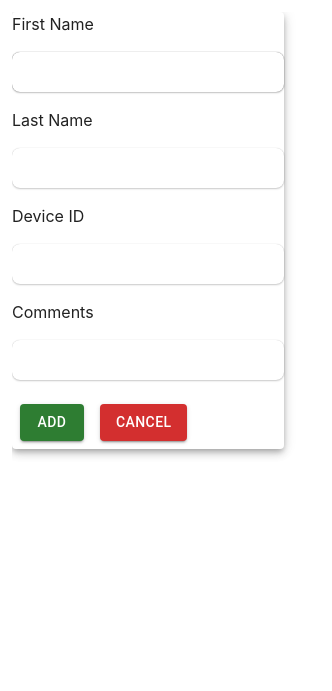
Test: Add component › should return validation error when first name is above character limit
Type "thisNameIsAboveTheMinimumCharacterLimit" into the field labelled "First Name" at (148, 72), box top-left (12, 52), bottom-right (284, 92)
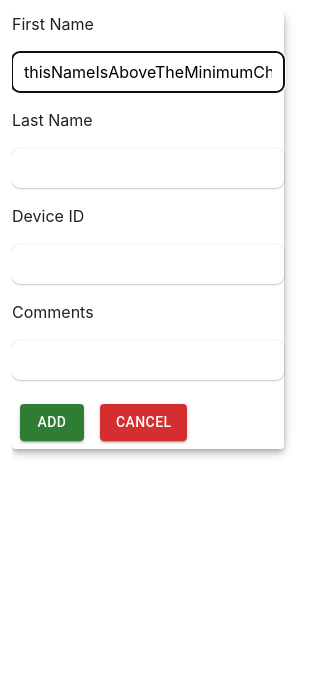
Click the button labelled "Add" at (52, 422), box top-left (20, 404), bottom-right (84, 440)
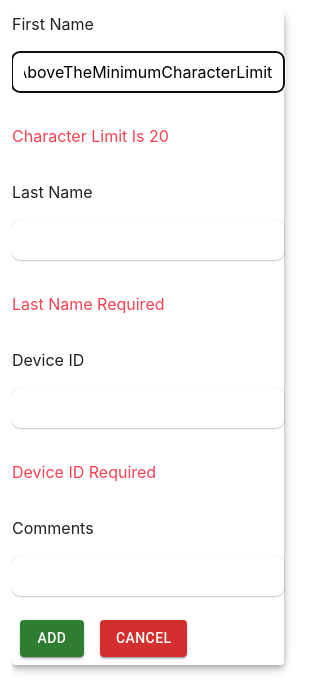
Expected: the text "Character Limit Is 20" is shown, top-left (12, 126), bottom-right (169, 146)
